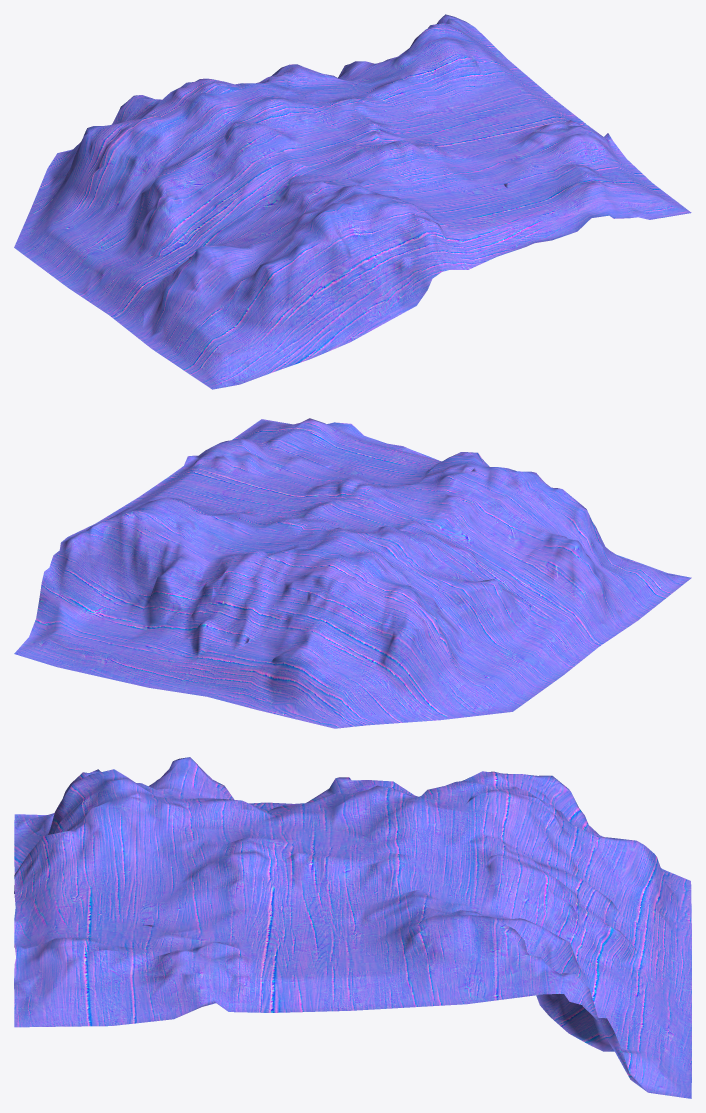
Rendered from SM_Distant_Terrain.fbx.
3 views of the same model, one above another, from view 1: azimuth 30°, elevation 25°; view 2: azimuth 150°, elevation 25°; view 3: azimuth 270°, elevation 25° (orthographic). The views are drawn at different scales.
Visible parts, largest first — view 1: SM_Distant_Terrain_LOD0; view 2: SM_Distant_Terrain_LOD0; view 3: SM_Distant_Terrain_LOD0.
Part boxes in pixels (left/top/right/bottom): SM_Distant_Terrain_LOD0: left=14, top=14, right=691, bottom=389; SM_Distant_Terrain_LOD0: left=14, top=418, right=691, bottom=728; SM_Distant_Terrain_LOD0: left=14, top=757, right=691, bottom=1098.
Bounding box in the file's own units: 3746 × 3745 × 895.
